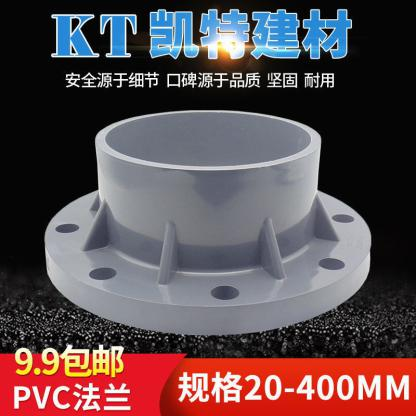FOD: (40, 105, 379, 338)
